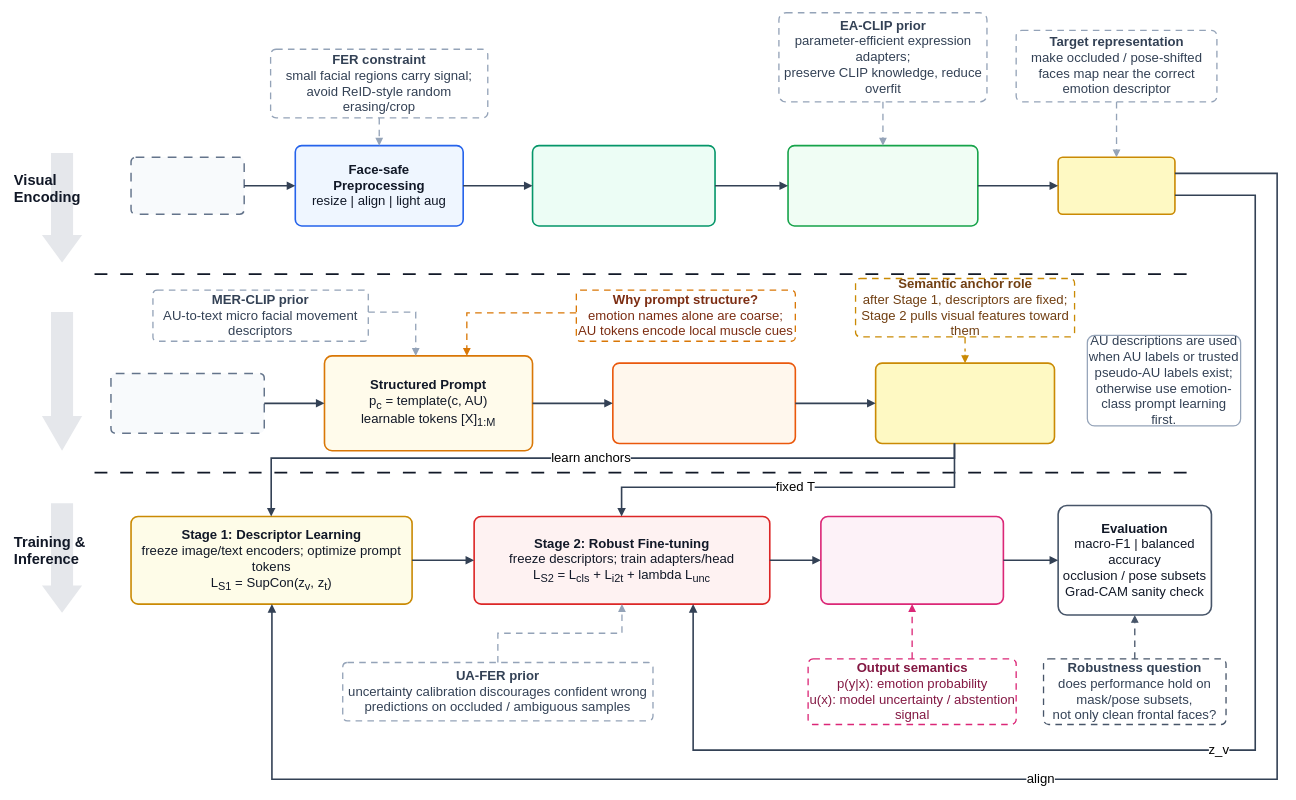
Some shapes in this 1296 by 800 pixel diagram are drawn without their labels. Here are the shapes that lost their labels. From the top down, the centre of each, then its label:
At [187,185]: "Face Image x".
At [623,185]: "CLIP Visual Encoder ViT-B/16 backbone mostly frozen".
At [882,185]: "Expression-aware Adapters trainable residual modules".
At [1116,185]: "Visual Embedding z v".
At [62,381]: "Semantic Descriptors".
At [187,403]: "Emotion / AU Labels y, a AU".
At [704,403]: "CLIP Text Encoder frozen transformer text projection".
At [964,403]: "Emotion Descriptors T = {z t c } semantic anchors".
At [912,560]: "Prediction Head softmax / evidence head p(y|x), u(x)".
